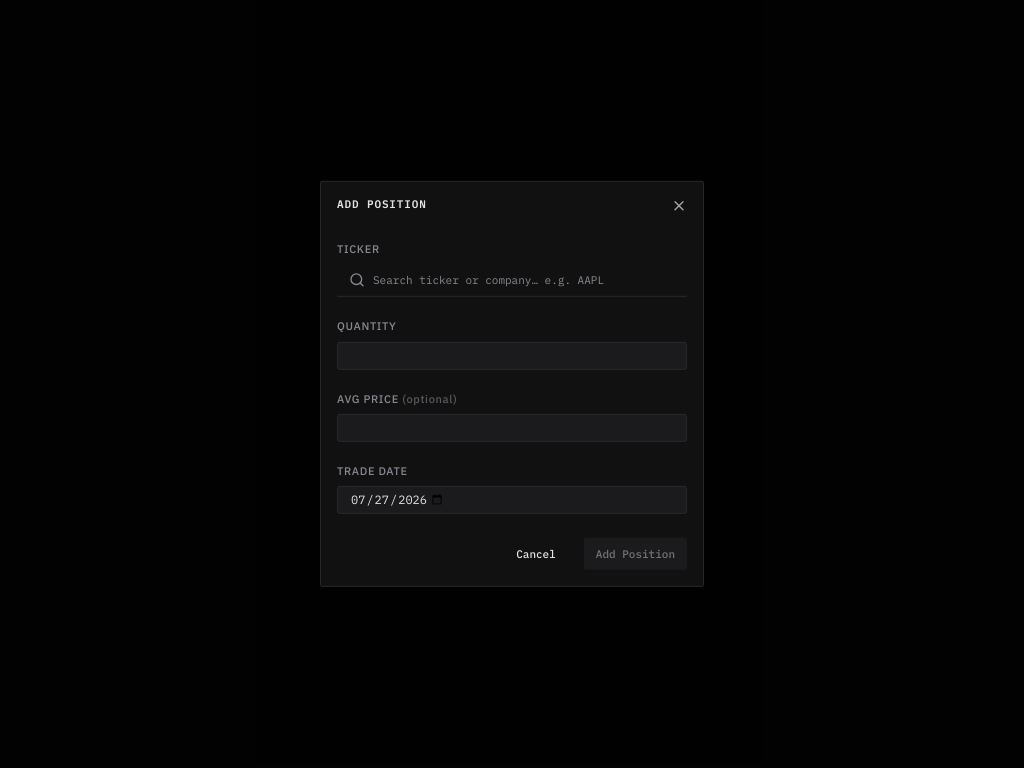
Scenario: AddPositionDialog — ticker validation › submit button enables when ticker is typed
Type "MSFT" into the dropdown with placeholder "Search ticker or company… e.g. AAPL".
click(524, 280); type("MSFT")  # box [373,264,675,296]
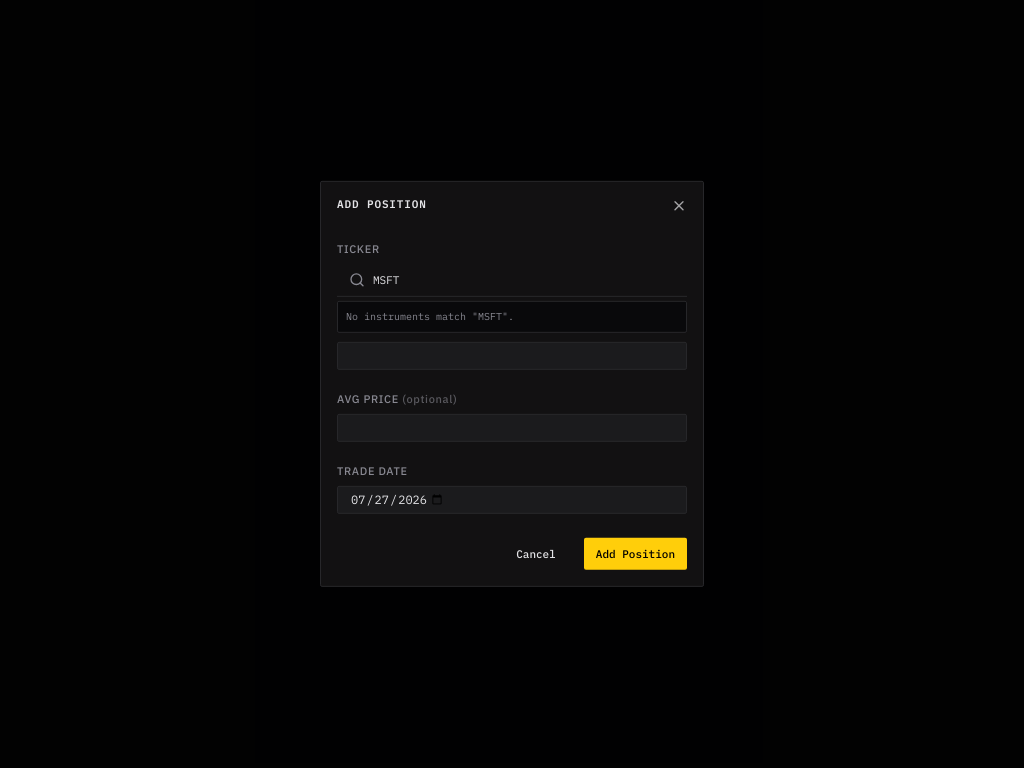
Now the button "Add Position" is enabled, box [584,538,687,570]
